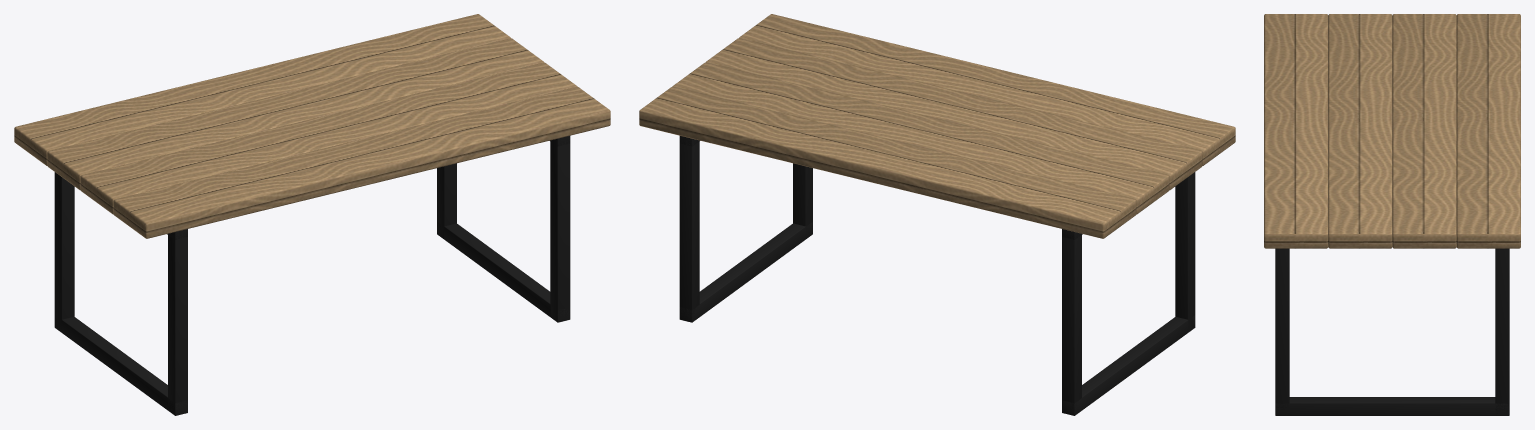
File: mdm-199051.glb
3 renders of one model, left to right at view 1: azimuth 30°, elevation 25°; view 2: azimuth 150°, elevation 25°; view 3: azimuth 270°, elevation 25°, orthographic. The views are drawn at different scales.
Parts seen in each view (by area): view 1: mdm-199051; view 2: mdm-199051; view 3: mdm-199051.
Boxes of the visible parts, <box> form: mdm-199051: <box>14,14,610,415</box>; mdm-199051: <box>639,14,1235,415</box>; mdm-199051: <box>1264,14,1520,415</box>.
Size of the model in its own units: 1.8 by 0.76 by 0.888.
Materials: 2 (1 with a texture image).
